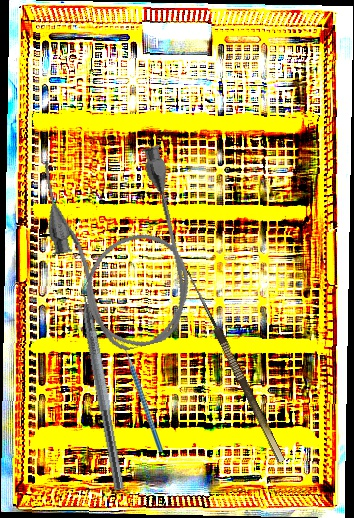Cannula: (31, 133, 208, 362)
Chopper: (71, 266, 140, 492), (114, 337, 163, 452)
Hook Surgical: (173, 265, 286, 469)
